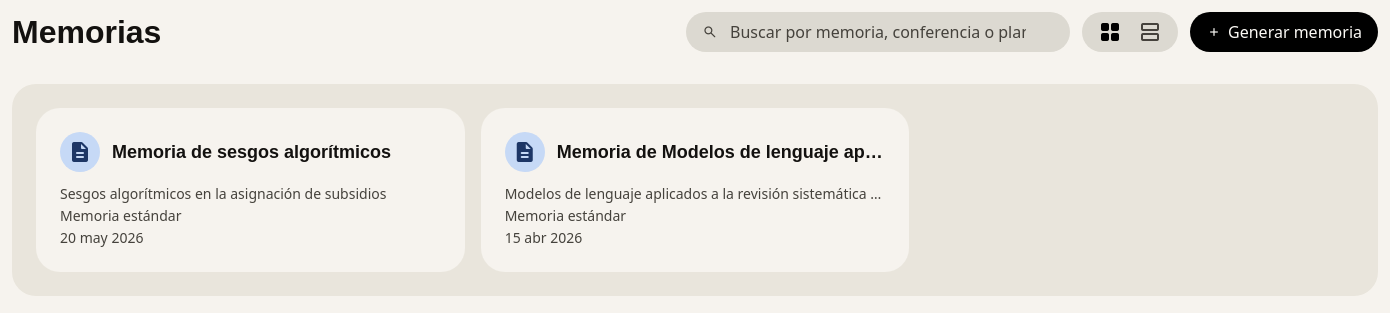
Test: PantallaMemorias › buscar filtra el listado por nombre de memoria, conferencia o plantilla
Expected: the text "Memoria de sesgos algorítmicos" is shown, [112, 138, 391, 166]
Type "sesgos" into the search field labelled "Buscar por memoria, conferencia o plantilla".
click(878, 32); type("sesgos")  # box [686, 12, 1070, 52]
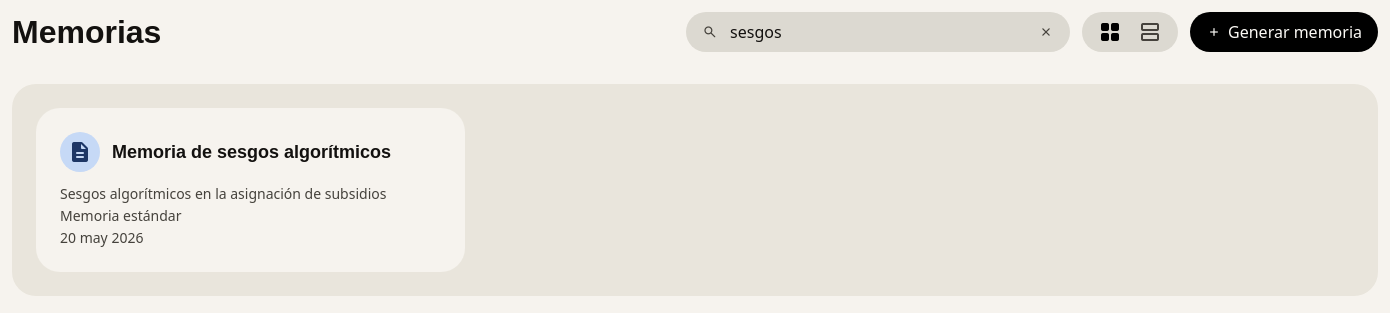
Expected: the text "Memoria de sesgos algorítmicos" is shown, [112, 138, 391, 166]
Expected: the link "Memoria de Modelos de lenguaje aplicados a la revisión sistemática de literatura" is gone
